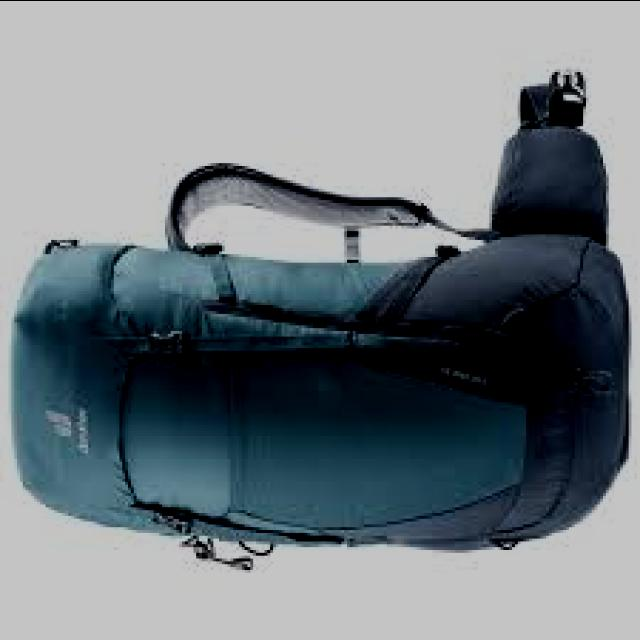backpack: (4, 73, 630, 573)
